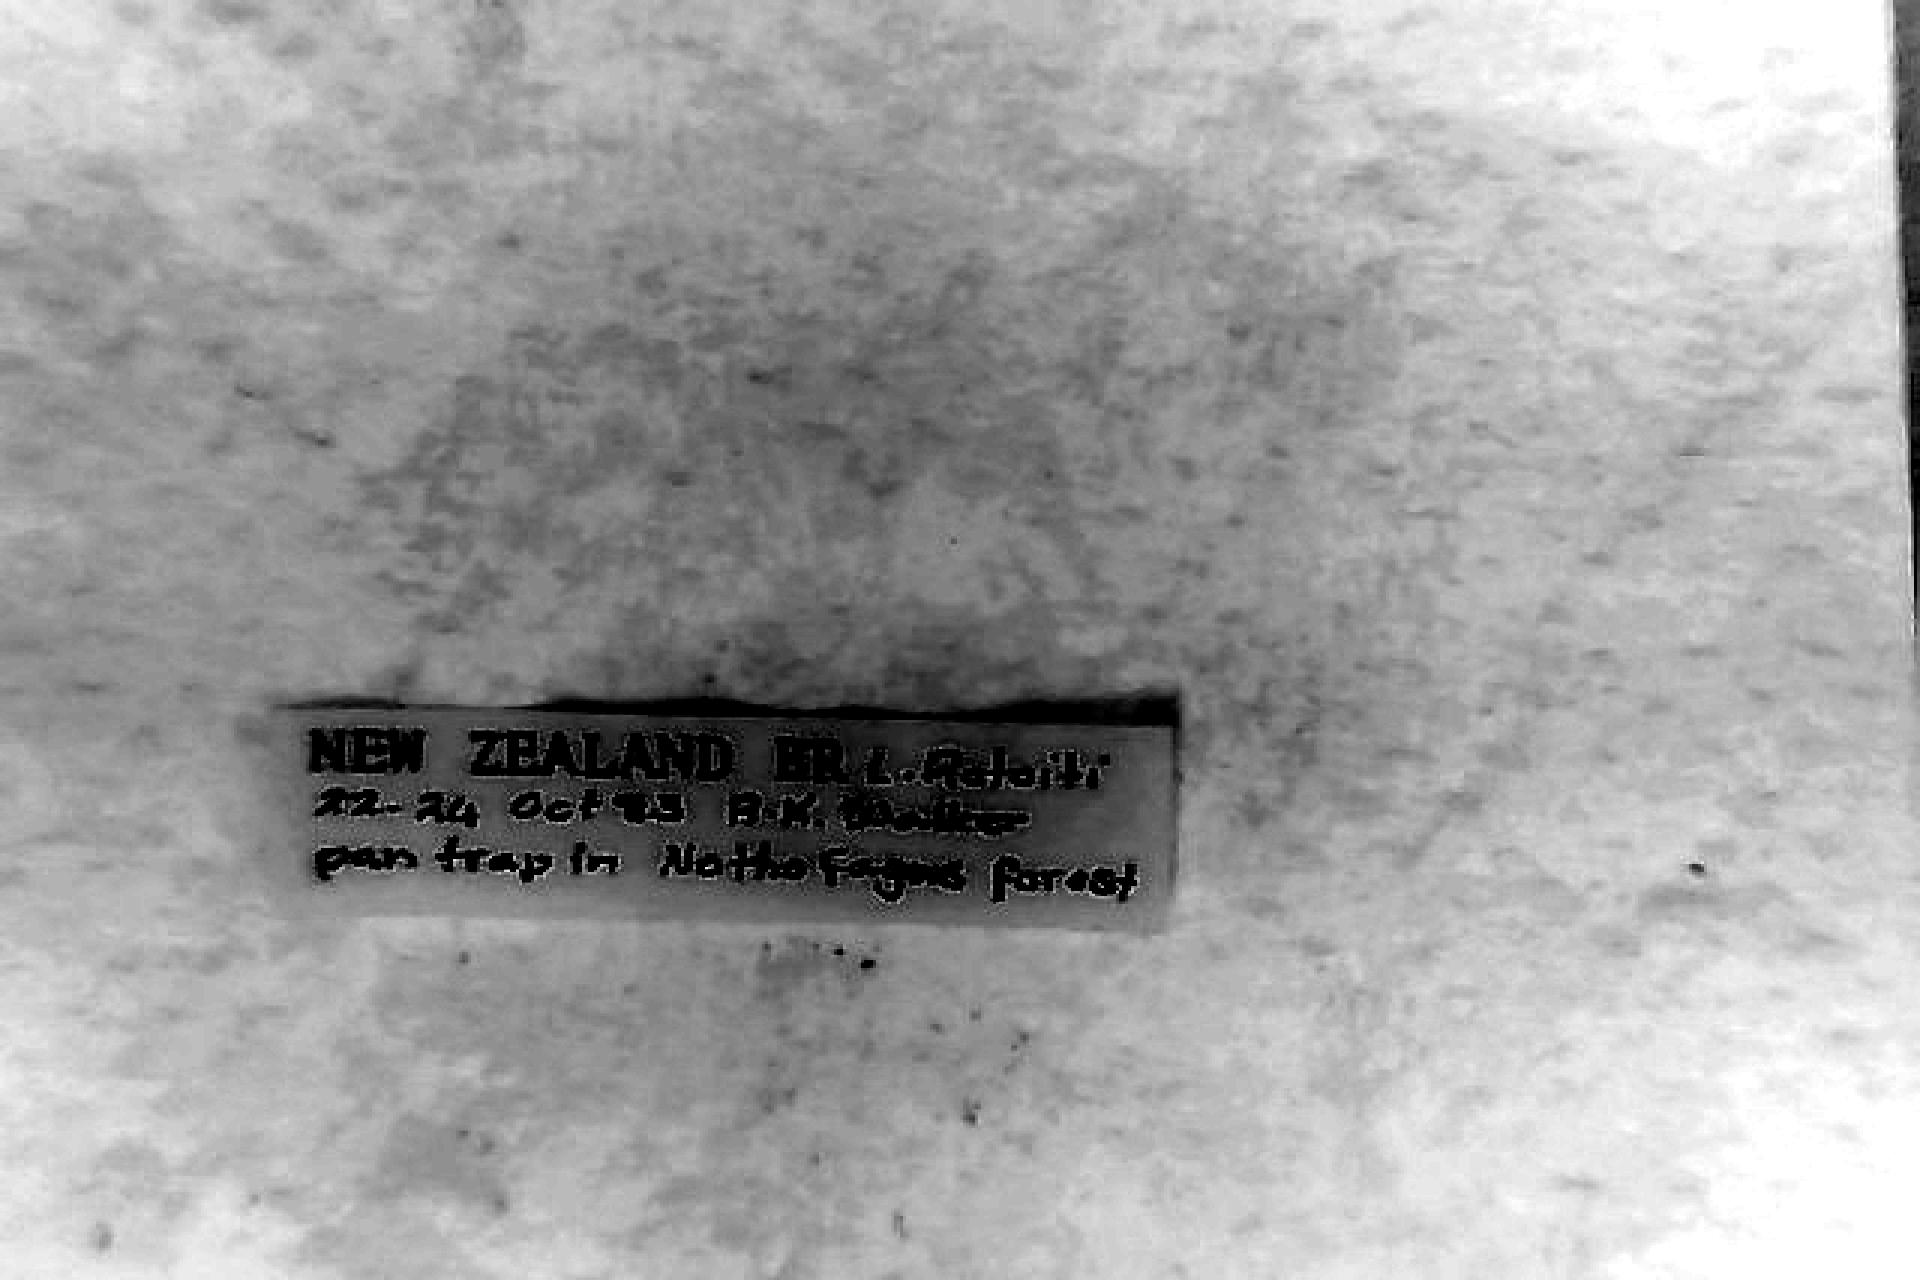mixed_label: (281, 707, 1174, 925)
